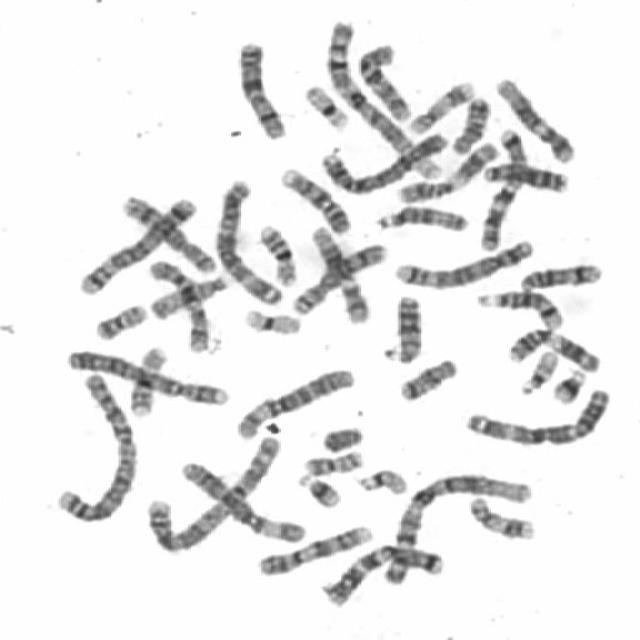A1: (320, 16, 446, 185), (390, 470, 536, 546)
A2: (141, 428, 282, 554), (51, 371, 138, 526)
A3: (212, 175, 284, 306), (462, 384, 612, 444)
B4: (61, 350, 232, 407), (314, 128, 448, 194)
B5: (76, 194, 198, 296), (391, 235, 536, 288)
C10: (145, 260, 211, 354), (356, 44, 412, 120)
C11: (391, 140, 501, 204), (499, 334, 597, 373)
C12: (490, 69, 577, 166), (309, 225, 370, 328)
C6: (176, 454, 306, 544), (231, 368, 356, 442)
C7: (318, 542, 447, 608), (474, 128, 529, 254)
C8: (117, 191, 219, 272), (288, 239, 389, 318)
C9: (254, 519, 374, 577), (284, 167, 352, 237)
D13: (379, 291, 423, 363), (484, 160, 570, 194)
D14: (473, 287, 560, 331), (516, 259, 604, 292)
D15: (146, 270, 234, 318), (372, 203, 470, 234)
E16: (253, 221, 298, 288), (130, 347, 170, 417)
E17: (404, 80, 476, 136), (466, 503, 536, 541)
E18: (448, 94, 497, 156), (395, 355, 459, 400)
F19: (300, 86, 352, 132), (244, 304, 302, 334)
F20: (92, 300, 150, 341), (301, 447, 366, 474)
G21: (296, 471, 344, 510), (548, 366, 588, 405)
G22: (514, 347, 560, 396), (352, 468, 410, 497)
X: (227, 41, 289, 141)
Y: (318, 423, 367, 455)
